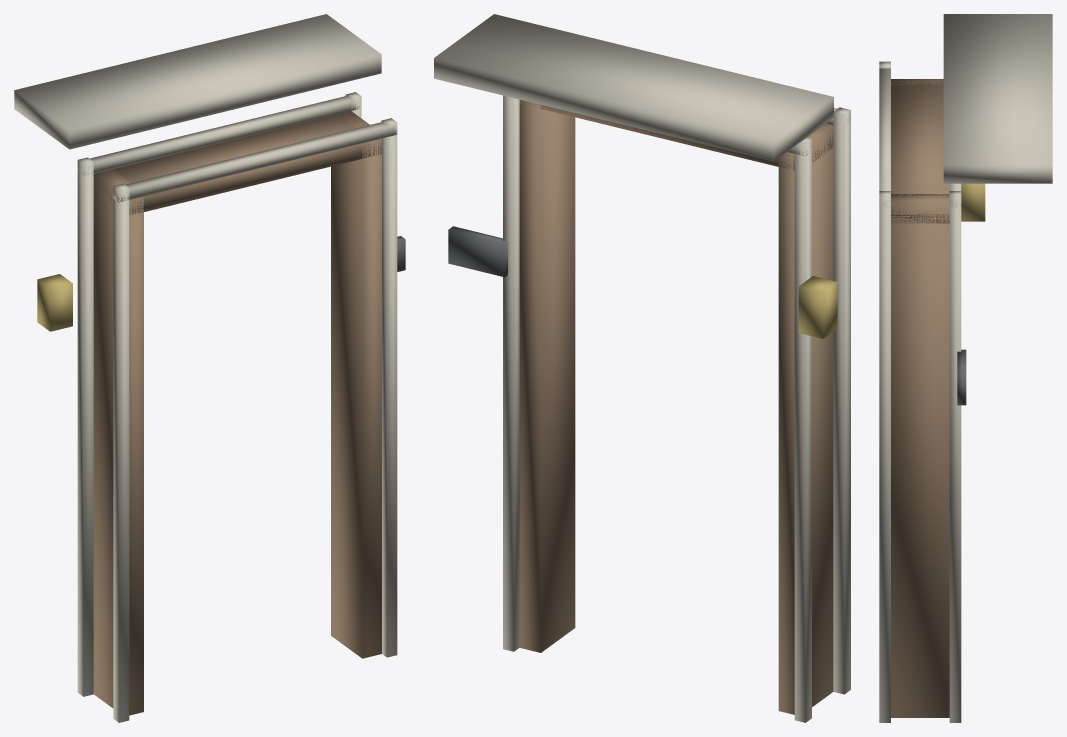
Rendered from doorway_motel_w96_h210_d24.glb.
3 renders of one model, left to right at view 1: azimuth 30°, elevation 25°; view 2: azimuth 150°, elevation 25°; view 3: azimuth 270°, elevation 25°, orthographic. The views are drawn at different scales.
Visible parts, largest first — view 1: world; view 2: world; view 3: world.
Boxes of the visible parts, <box> form: world: <box>14,14,405,722</box>; world: <box>434,14,850,722</box>; world: <box>879,14,1052,722</box>.
Size of the model in its own units: 1.56 by 2.41 by 0.6682.
